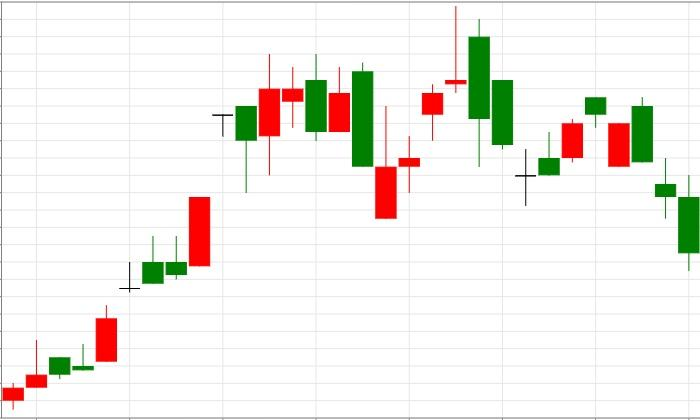bearish_engulfing_fall: (1, 54, 373, 410)
